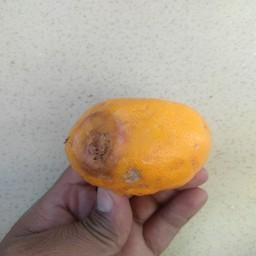Bad_orange: (60, 93, 214, 197)
